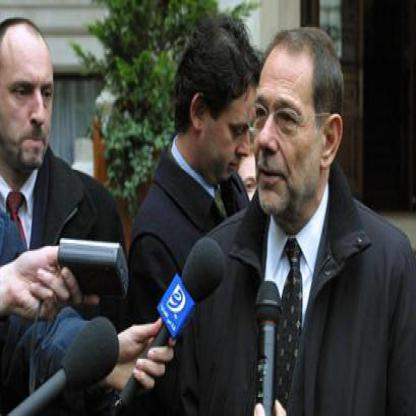face: (247, 30, 327, 221), (1, 23, 58, 176), (205, 50, 260, 185)
